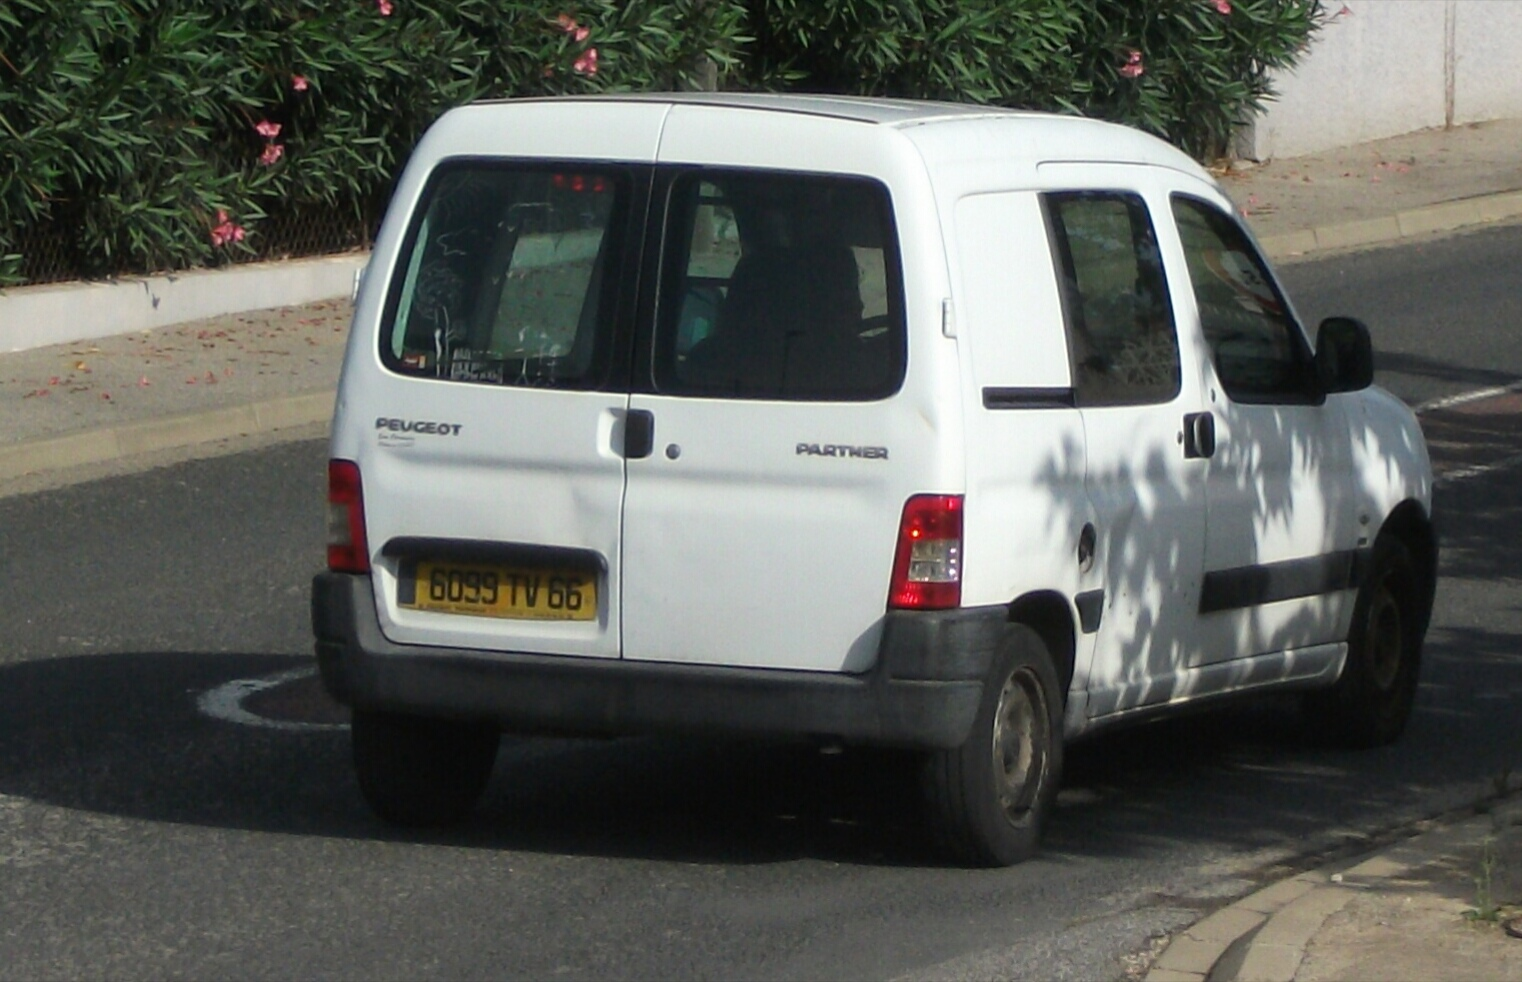licence plate: (393, 555, 600, 624)
